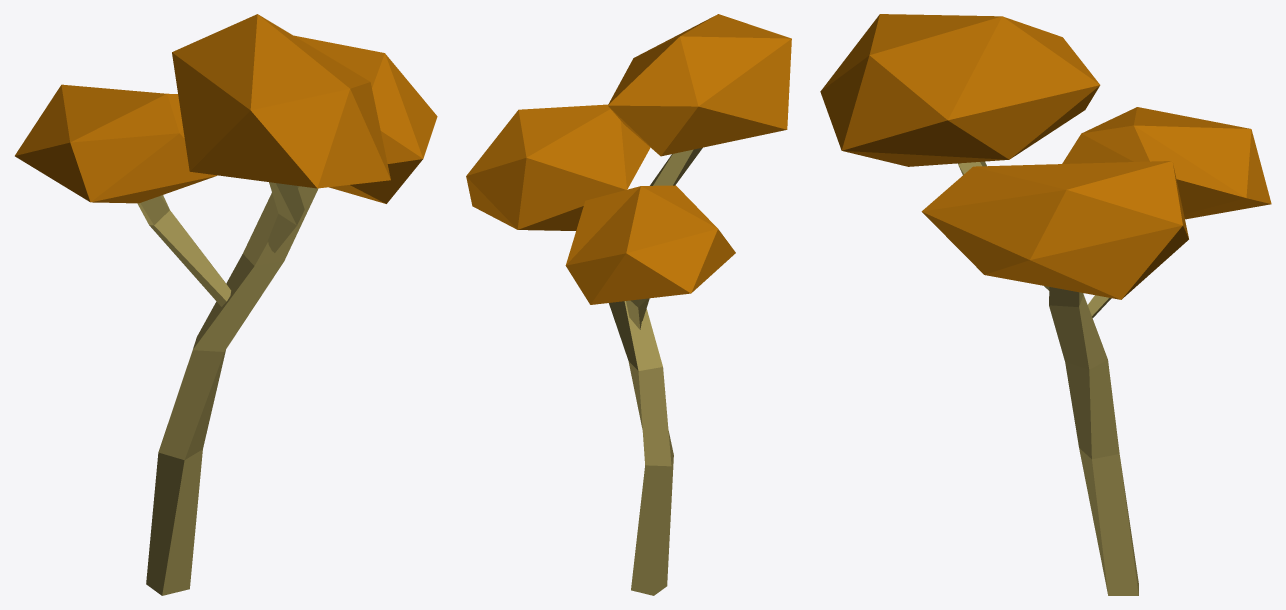
Rendered from Tree_Fall_5.fbx.
3 renders of one model, left to right at view 1: azimuth 30°, elevation 25°; view 2: azimuth 150°, elevation 25°; view 3: azimuth 270°, elevation 25°, orthographic. The views are drawn at different scales.
Visible parts, largest first — view 1: Leaves, Leaves.001, Trunk, Leaves.002, Trunk.001, Trunk.002; view 2: Leaves, Leaves.002, Leaves.001, Trunk, Trunk.002, Trunk.001; view 3: Leaves, Leaves.002, Leaves.001, Trunk.
Part boxes in pixels (left/top/right/bottom): Leaves: left=172, top=14, right=390, bottom=188; Leaves.001: left=15, top=84, right=217, bottom=203; Trunk: left=146, top=186, right=318, bottom=595; Leaves.002: left=294, top=35, right=437, bottom=203; Trunk.001: left=137, top=195, right=231, bottom=306; Trunk.002: left=267, top=182, right=304, bottom=252; Leaves: left=608, top=14, right=791, bottom=156; Leaves.002: left=466, top=104, right=650, bottom=230; Leaves.001: left=565, top=185, right=735, bottom=304; Trunk: left=609, top=301, right=673, bottom=595; Trunk.002: left=650, top=147, right=702, bottom=185; Trunk.001: left=626, top=298, right=649, bottom=329; Leaves: left=820, top=14, right=1100, bottom=166; Leaves.002: left=921, top=161, right=1188, bottom=299; Leaves.001: left=1062, top=107, right=1271, bottom=219; Trunk: left=1049, top=287, right=1138, bottom=595.
Bounding box in the file's own units: 217 × 395 × 276.
